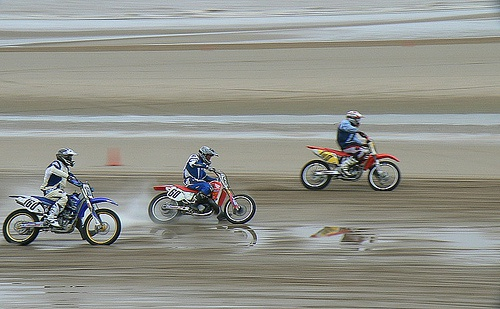non-vehicle: (2, 182, 121, 245), (149, 171, 256, 227), (298, 135, 401, 193)
